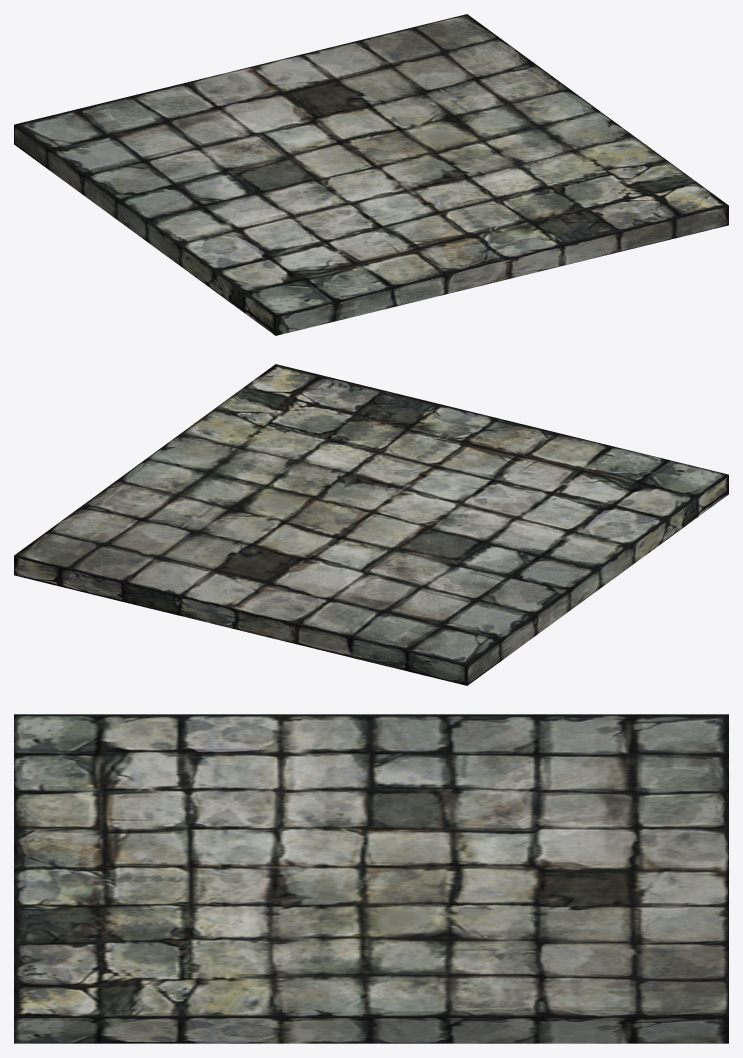
File: STR_WoodFloorTile.FBX
The picture shows the model from 3 angles, top to bottom: view 1: azimuth 30°, elevation 25°; view 2: azimuth 150°, elevation 25°; view 3: azimuth 270°, elevation 25°; orthographic projection. The views are drawn at different scales.
Parts seen in each view (by area): view 1: STR_WoodFloorTile; view 2: STR_WoodFloorTile; view 3: STR_WoodFloorTile.
Part boxes in pixels (<box>): STR_WoodFloorTile: <box>14,14,728,335</box>; STR_WoodFloorTile: <box>14,364,728,685</box>; STR_WoodFloorTile: <box>14,714,728,1043</box>.
Bounding box in the file's own units: 2400 × 100 × 2400.
